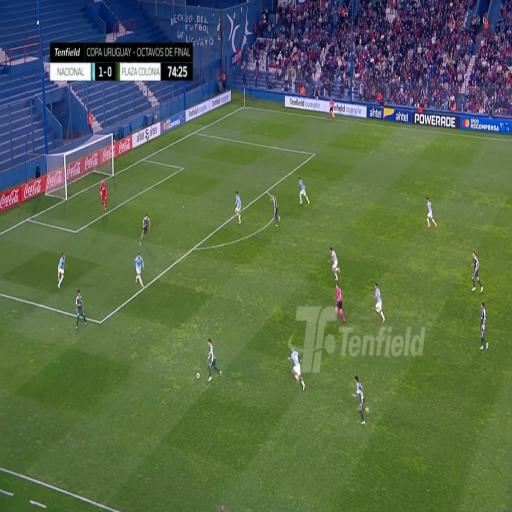Ball: (196, 369, 200, 382)
Goalkeeper: (100, 176, 107, 210)
Player: (372, 282, 386, 323), (354, 370, 364, 427), (132, 252, 146, 292), (206, 336, 218, 382), (290, 346, 302, 392), (479, 300, 488, 353), (328, 243, 340, 280), (75, 288, 85, 330), (471, 250, 480, 292), (297, 176, 308, 206), (426, 196, 435, 230), (58, 252, 66, 290), (272, 191, 280, 225), (235, 188, 242, 226), (141, 210, 149, 242)
Referee: (333, 282, 345, 326), (328, 96, 336, 117)
